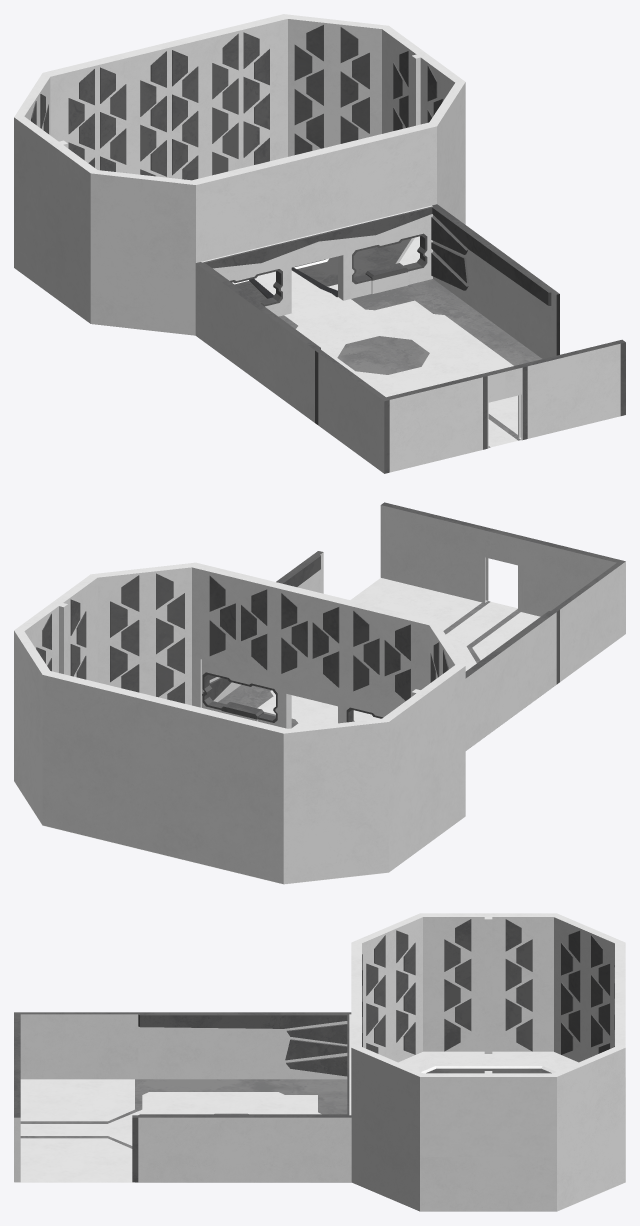
3 renders of one model, top to bottom at view 1: azimuth 30°, elevation 25°; view 2: azimuth 150°, elevation 25°; view 3: azimuth 270°, elevation 25°, orthographic. The views are drawn at different scales.
Visible parts, largest first — view 1: pared central, paredes, suelo, detalles pared.004, detalles pared.003, paredes.002, pared central.002, suelo.001, paredes.005, pared central.001, detalles; view 2: pared central, paredes, pared central.001, suelo, detalles pared.002, pared central.002, detalles pared.003, paredes.002, paredes.005; view 3: pared central, suelo, paredes, pared central.002, paredes.002, pared central.001, detalles pared.003, detalles pared.001, detalles pared, suelo.001, detalles, paredes.003 (+1 smaller).
Boxes of the visible parts, box(x1,y1,x2,y2) form: pared central: box(14, 14, 436, 335); paredes: box(195, 204, 625, 473); suelo: box(279, 279, 541, 447); detalles pared.004: box(68, 32, 269, 180); detalles pared.003: box(284, 14, 388, 156); paredes.002: box(433, 205, 559, 358); pared central.002: box(382, 26, 465, 133); suelo.001: box(232, 236, 419, 308); paredes.005: box(431, 206, 551, 305); pared central.001: box(429, 82, 465, 224); detalles: box(202, 206, 432, 349); pared central: box(42, 562, 465, 884); paredes: box(202, 502, 625, 750); pared central.001: box(91, 562, 195, 705); suelo: box(218, 578, 540, 728); detalles pared.002: box(209, 575, 410, 700); pared central.002: box(14, 574, 97, 682); detalles pared.003: box(14, 630, 49, 824); paredes.002: box(209, 551, 323, 702); paredes.005: box(209, 555, 320, 700); pared central: box(351, 913, 625, 1062); suelo: box(15, 1079, 351, 1182); paredes: box(14, 1012, 351, 1182); pared central.002: box(420, 1071, 556, 1211); paredes.002: box(132, 1115, 349, 1182); pared central.001: box(351, 1047, 422, 1211); detalles pared.003: box(554, 1047, 625, 1211); detalles pared.001: box(366, 930, 610, 1054); detalles pared: box(444, 919, 532, 1051); suelo.001: box(398, 1051, 625, 1210); detalles: box(138, 1014, 349, 1114); paredes.003: box(285, 1024, 347, 1076).
Size of the model in its own units: 4895 by 1897 by 7740.
